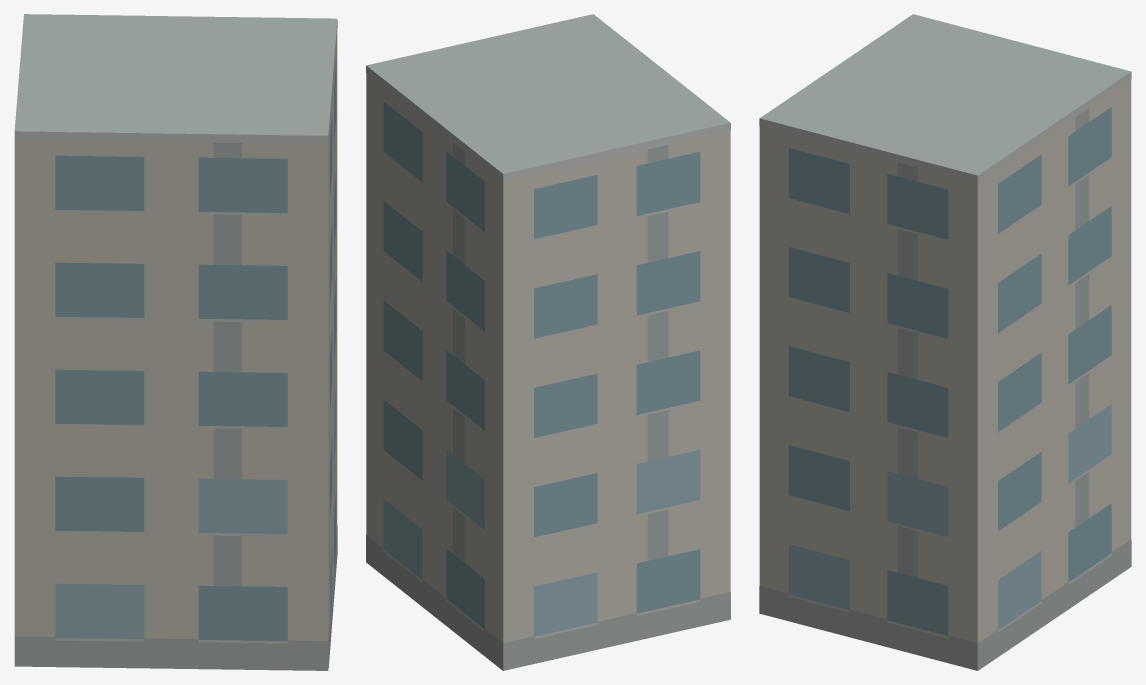
Rendered from residential-e7136df3-5b38-4232-8bd6-880bf257e997.glb.
3 renders of one model, left to right at view 1: azimuth 30°, elevation 25°; view 2: azimuth 150°, elevation 25°; view 3: azimuth 270°, elevation 25°, orthographic. The views are drawn at different scales.
Parts seen in each view (by area): view 1: residential-e7136df3-5b38-4232-8bd6-880bf257e997.tmp; view 2: residential-e7136df3-5b38-4232-8bd6-880bf257e997.tmp; view 3: residential-e7136df3-5b38-4232-8bd6-880bf257e997.tmp.
Boxes of the visible parts, x1,y1,x2,y2 form: residential-e7136df3-5b38-4232-8bd6-880bf257e997.tmp: (14, 14, 337, 670); residential-e7136df3-5b38-4232-8bd6-880bf257e997.tmp: (366, 14, 730, 670); residential-e7136df3-5b38-4232-8bd6-880bf257e997.tmp: (759, 14, 1131, 670).
Size of the model in its own units: 10.68 by 15.25 by 10.39.
